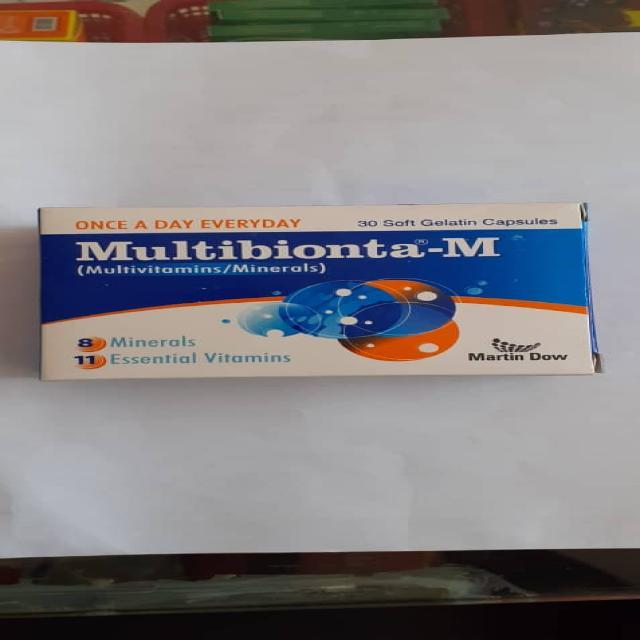drug-name: (76, 236, 503, 260)
